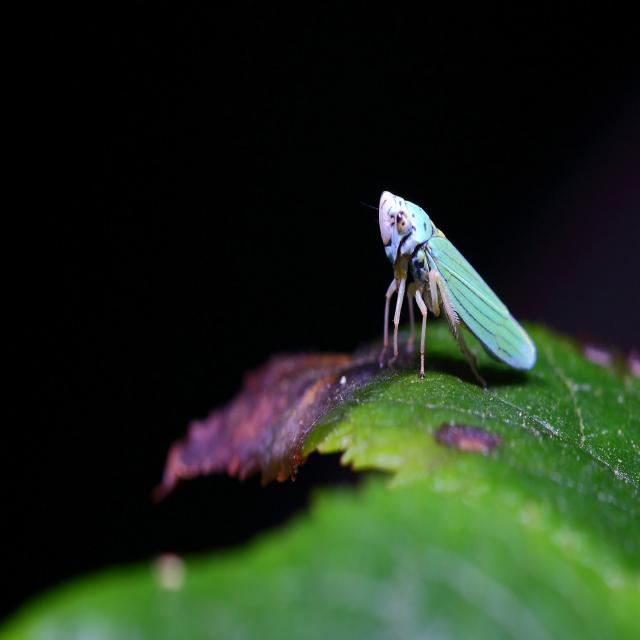Yechan: (376, 188, 536, 395)
